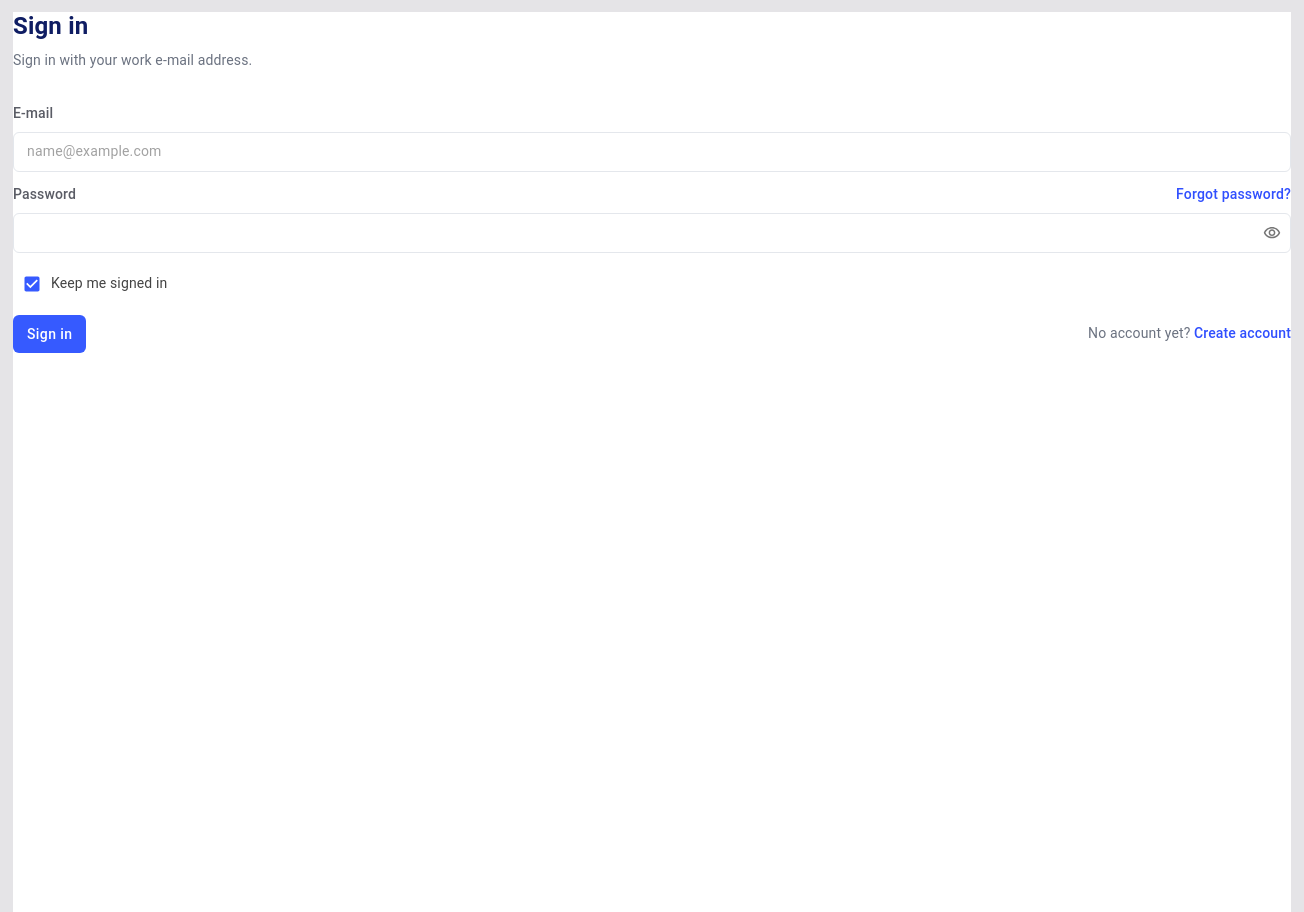
Test case: SignInForm validation › shows a banner for a wrong password
Type "sara@example.com" into the field labelled "E-mail" at (652, 152), box [13,132,1291,172]
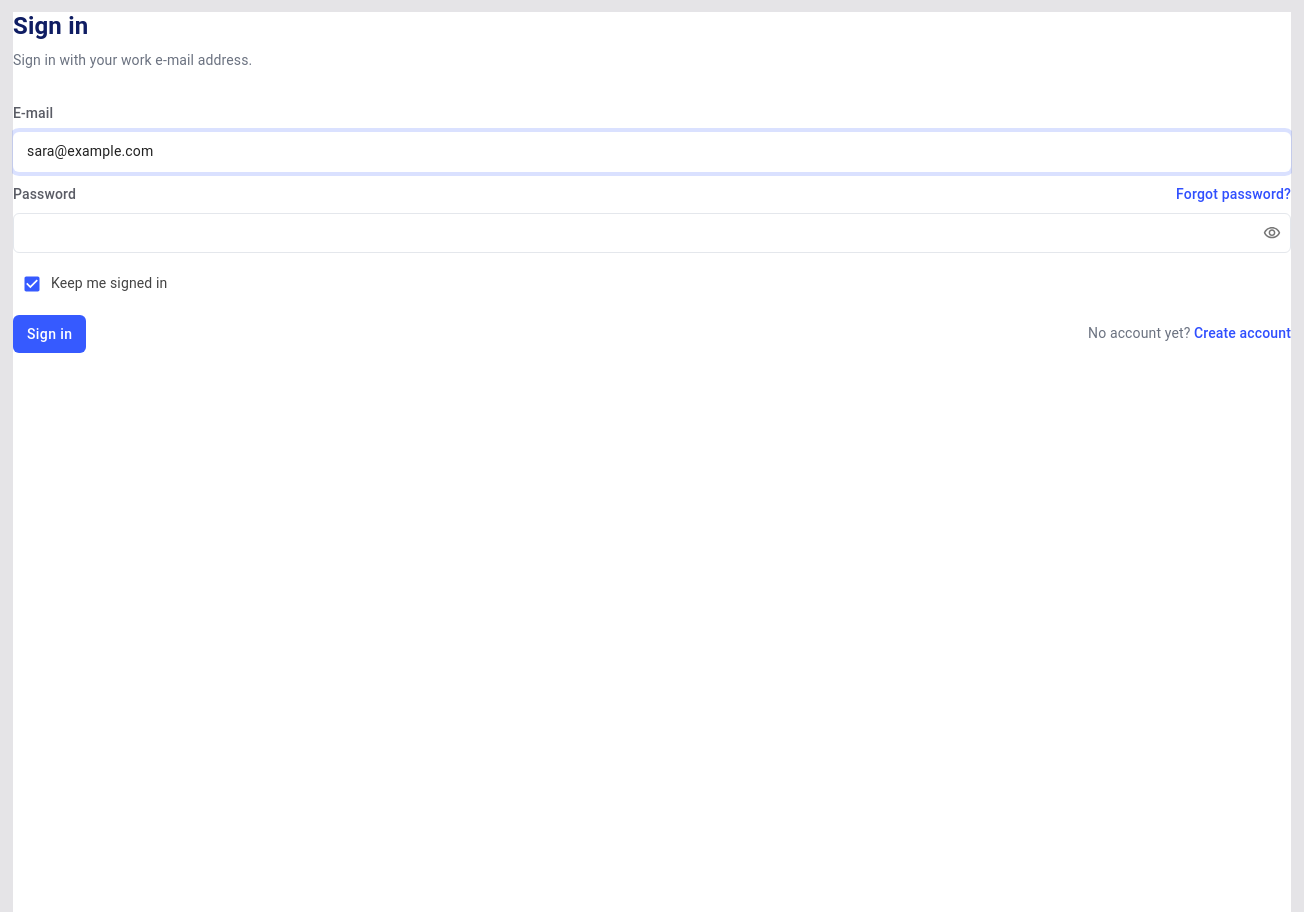
Type "wrong" into the password field labelled "Password" at (630, 233), box [13,213,1247,253]
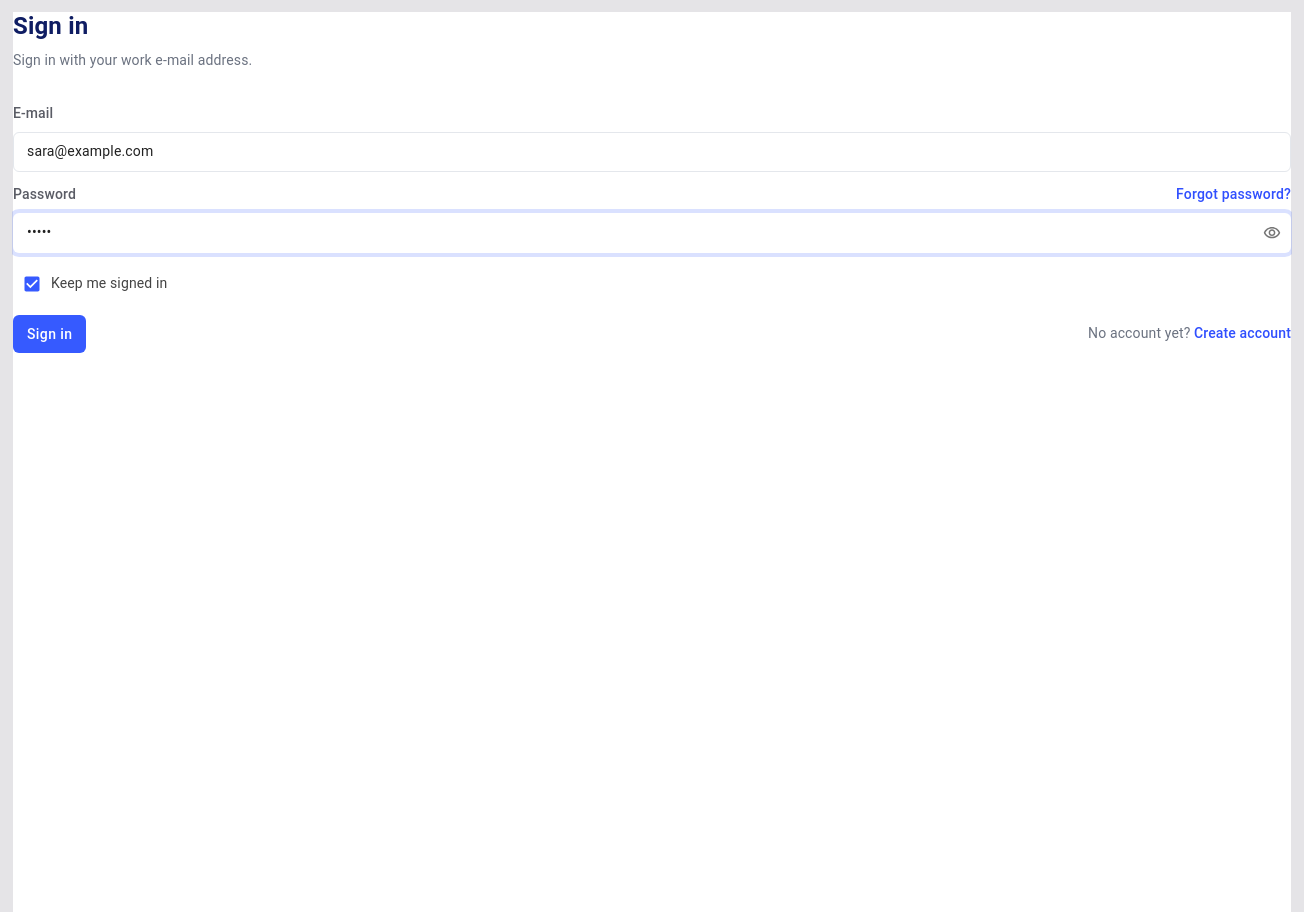
Click the button "Sign in" at (50, 334), box [13,315,86,353]
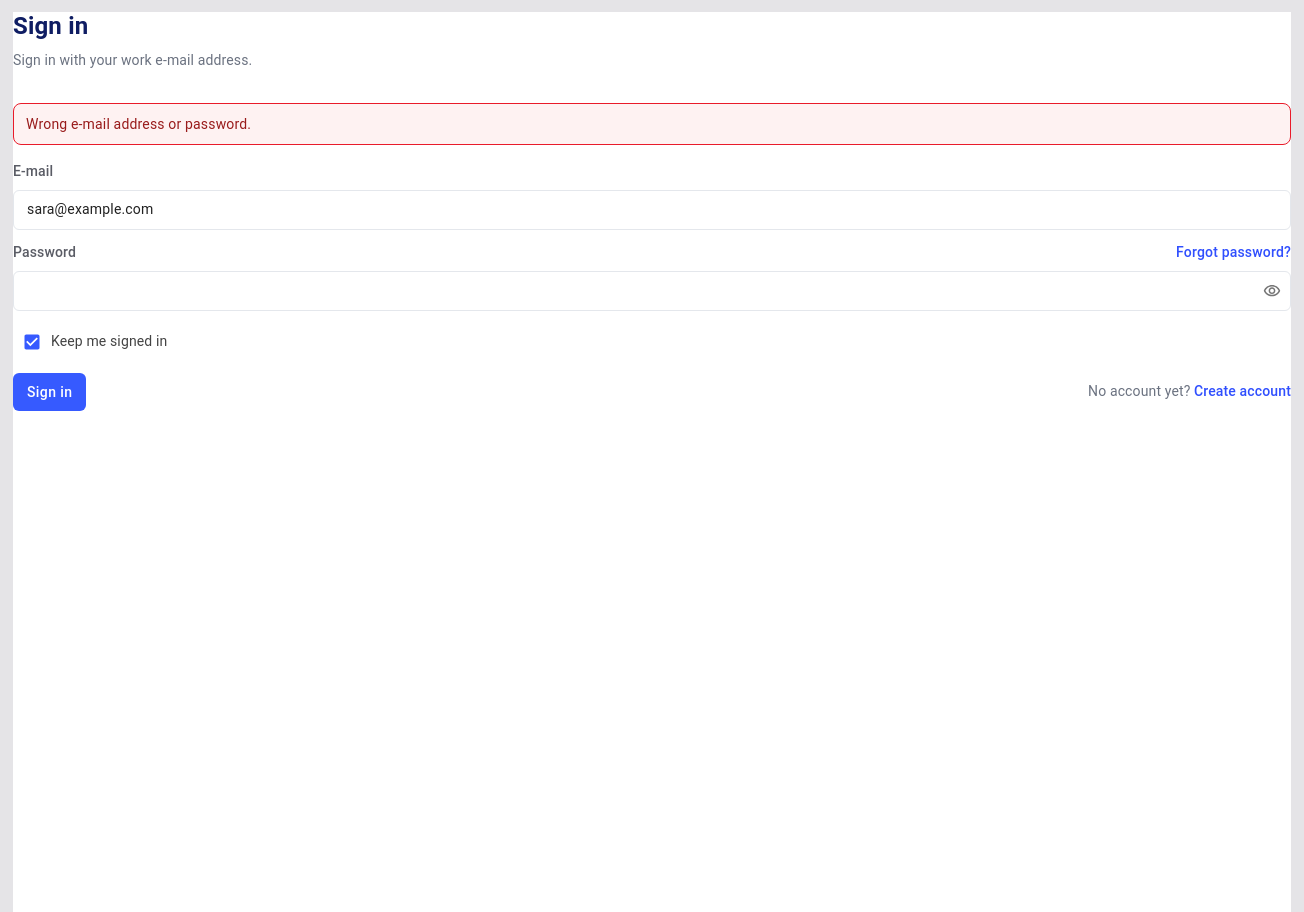
Result: the text "Wrong e-mail address or password." is shown at [13,103,1291,145]
